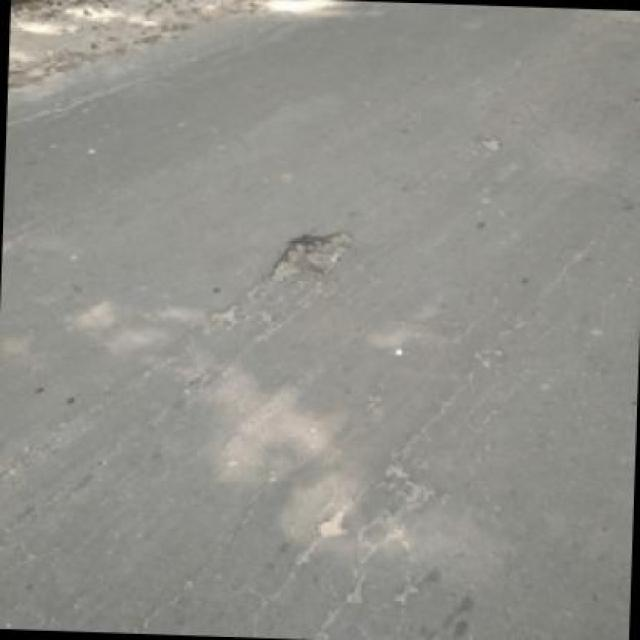pothole1: (267, 224, 351, 285), (314, 507, 351, 539), (59, 16, 106, 39), (10, 28, 41, 48), (476, 134, 501, 152), (62, 2, 86, 13), (30, 10, 56, 19), (11, 0, 26, 3)
